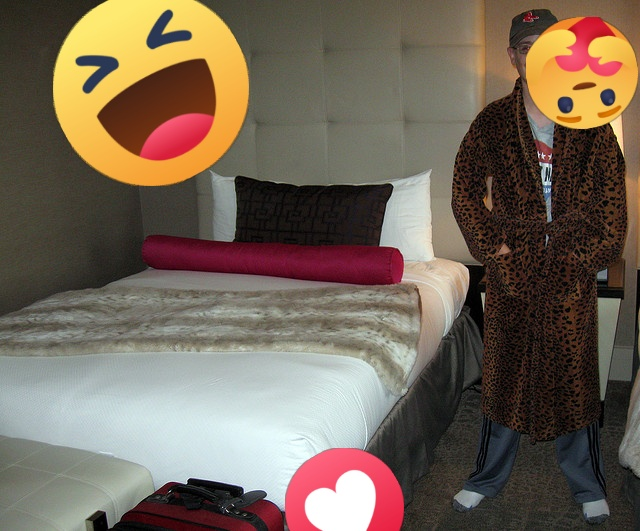care: (526, 17, 638, 129)
haha: (53, 0, 249, 186)
love: (285, 448, 404, 531)
